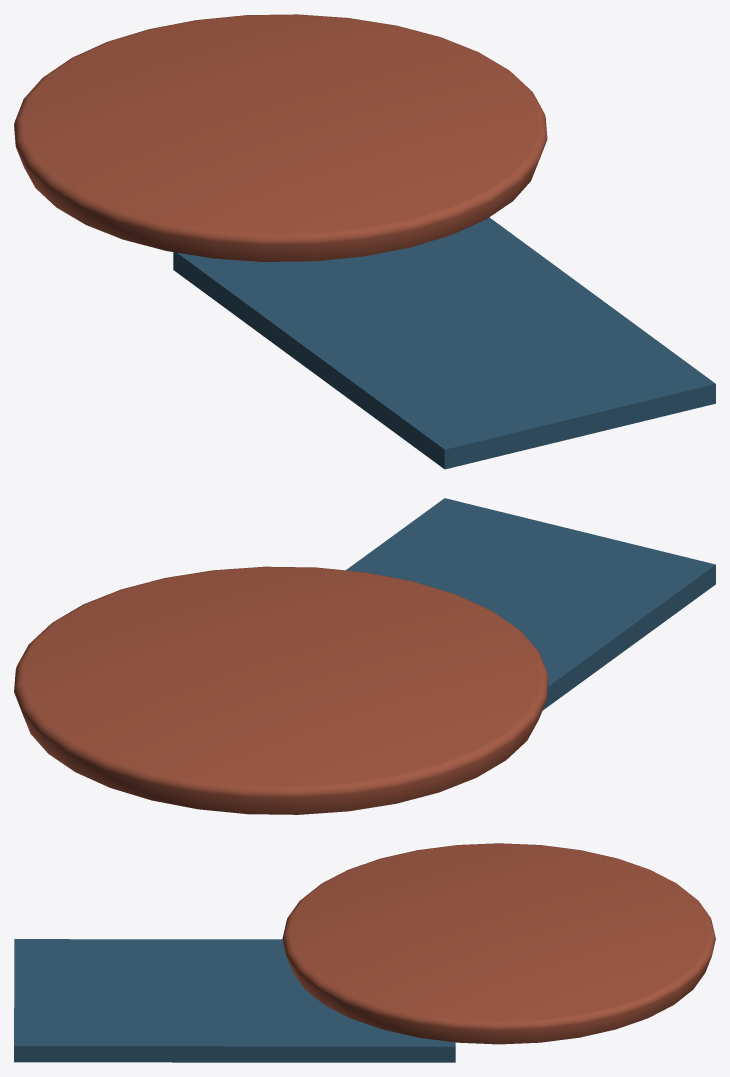
Rendered from tables_2_floor.fbx.
The picture shows the model from 3 angles, top to bottom: view 1: azimuth 30°, elevation 25°; view 2: azimuth 150°, elevation 25°; view 3: azimuth 270°, elevation 25°; orthographic projection. The views are drawn at different scales.
Visible parts, largest first — view 1: Cylinder.060, Cube.106; view 2: Cylinder.060, Cube.106; view 3: Cylinder.060, Cube.106.
Part boxes in pixels (x1=…): Cylinder.060: x1=14, y1=14, x2=547, y2=261; Cube.106: x1=173, y1=217, x2=715, y2=469; Cylinder.060: x1=14, y1=566, x2=548, y2=814; Cube.106: x1=346, y1=498, x2=715, y2=710; Cylinder.060: x1=282, y1=843, x2=715, y2=1044; Cube.106: x1=14, y1=939, x2=455, y2=1062.
Bounding box in the file's own units: 88.24 × 17.05 × 143.
